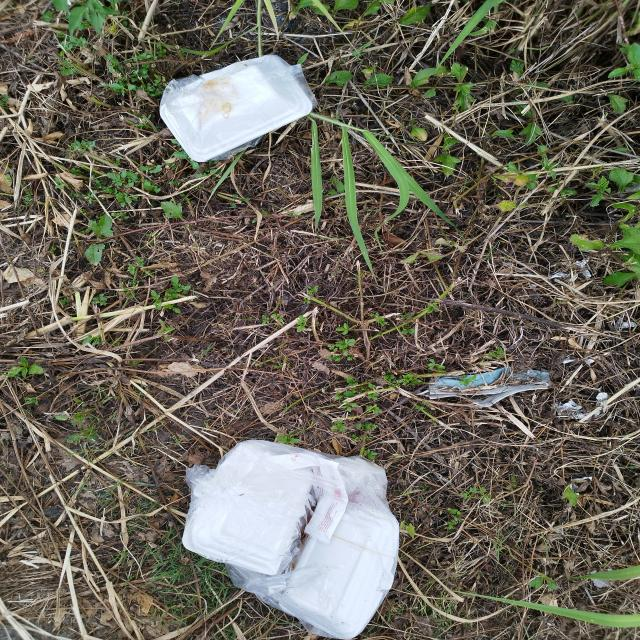foam box: (184, 441, 314, 574), (279, 500, 400, 640), (160, 54, 311, 162)
trash bag: (181, 439, 399, 640)
